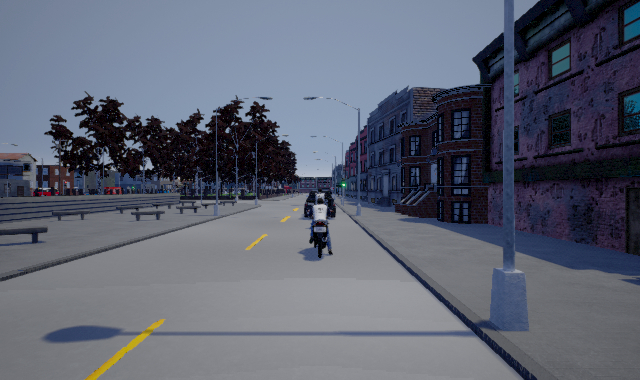motobike: (308, 199, 336, 256)
traffic_light: (342, 180, 345, 188)
vehicle: (304, 191, 337, 219)
